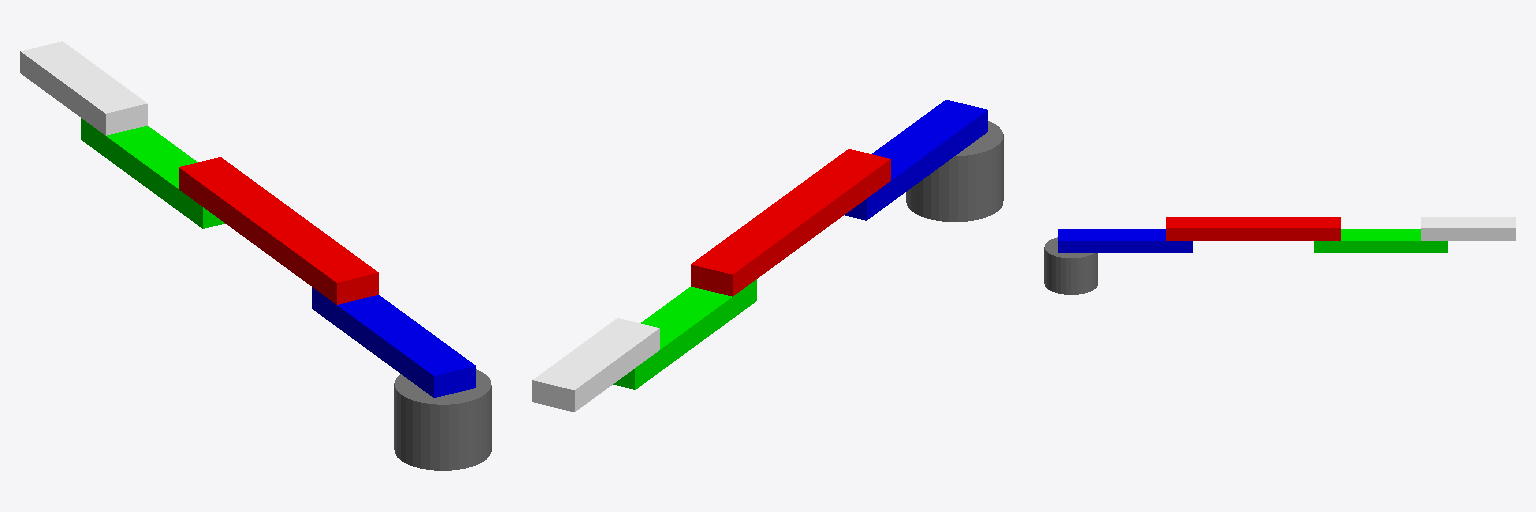
URDF robot description (scara):
<?xml version="1.0"?>
<robot name="scara" xmlns:xacro="http://www.ros.org/wiki/xacro">

  <material name="gray">
    <color rgba="0.5 0.5 0.5 1.0"/>
  </material>
  <material name="blue">
    <color rgba="0 0 1 1.0"/>
  </material>
  <material name="red">
    <color rgba="1 0 0 1.0"/>
  </material>
  <material name="green">
    <color rgba="0 1 0 1.0"/>
  </material>
  <material name="white">
    <color rgba="1 1 1 1.0"/>
  </material>

  <link name="base_link">
    <inertial>
      <mass value="12.72"/>
      <origin xyz="0 0 0" rpy="0 0 0"/>
      <inertia 
        ixx="0.05565" ixy="0.0" ixz="0.0"
        iyy="0.05565" iyz="0.0"
        izz="0.636"/>
    </inertial>
    <visual>
      <origin xyz="0 0 0.075" rpy="0 0 0"/>
      <geometry>
        <cylinder radius="0.1" length="0.15"/>
      </geometry>
      <material name="gray"/>
    </visual>
    <collision>
      <origin xyz="0 0 0.075" rpy="0 0 0"/>
      <geometry>
        <cylinder radius="0.1" length="0.15"/>
      </geometry>
    </collision>
  </link>

  <link name="link1">
    <inertial>
      <mass value="6.75"/>
      <origin xyz="0 0 0" rpy="0 0 0"/>
      <inertia 
        ixx="0.1418" ixy="0.0" ixz="0.0"
        iyy="0.00703" iyz="0.0"
        izz="0.14625"/>
    </inertial>
    <visual>
      <origin xyz="0 0.2 0" rpy="0 0 0"/>
      <geometry>
        <box size="0.1 0.5 0.05"/>
      </geometry>
      <material name="blue"/>
    </visual>
    <collision>
      <origin xyz="0 0.2 0" rpy="0 0 0"/>
      <geometry>
        <box size="0.1 0.5 0.05"/>
      </geometry>
    </collision>
  </link>

  <link name="link2">
    <inertial>
      <mass value="8.78"/>
      <origin xyz="0 0 0" rpy="0 0 0"/>
      <inertia 
        ixx="0.3128" ixy="0.0" ixz="0.0"
        iyy="0.00914" iyz="0.0"
        izz="0.3235"/>
    </inertial>
    <visual>
      <origin xyz="0 0.275 0" rpy="0 0 0"/>
      <geometry>
        <box size="0.1 0.65 0.05"/>
      </geometry>
      <material name="red"/>
    </visual>
    <collision>
      <origin xyz="0 0.275 0" rpy="0 0 0"/>
      <geometry>
        <box size="0.1 0.65 0.05"/>
      </geometry>
    </collision>
  </link>

  <link name="link3">
    <inertial>
      <mass value="6.75"/>
      <origin xyz="0 0 0" rpy="0 0 0"/>
      <inertia 
        ixx="0.1418" ixy="0.0" ixz="0.0"
        iyy="0.00703" iyz="0.0"
        izz="0.14625"/>
    </inertial>
    <visual>
      <origin xyz="0 0.2 0" rpy="0 0 0"/>
      <geometry>
        <box size="0.1 0.5 0.05"/>
      </geometry>
      <material name="green"/>
    </visual>
    <collision>
      <origin xyz="0 0.2 0" rpy="0 0 0"/>
      <geometry>
        <box size="0.1 0.5 0.05"/>
      </geometry>
    </collision>
  </link>

  <link name="link4">
    <inertial>
      <mass value="4.725"/>
      <origin xyz="0 0 0" rpy="0 0 0"/>
      <inertia 
        ixx="0.0502" ixy="0.0" ixz="0.0"
        iyy="0.00492" iyz="0.0"
        izz="0.05118"/>
    </inertial>
    <visual>
      <origin xyz="0 0.125 0" rpy="0 0 0"/>
      <geometry>
        <box size="0.1 0.35 0.05"/>
      </geometry>
      <material name="white"/>
    </visual>
    <collision>
      <origin xyz="0 0.125 0" rpy="0 0 0"/>
      <geometry>
        <box size="0.1 0.35 0.05"/>
      </geometry>
    </collision>
  </link>

  <joint name="scara_joint1" type="revolute">
    <parent link="base_link"/>
    <child link="link1"/>
    <axis xyz="0 0 1"/>
    <origin xyz="0 0 0.175" rpy="0 0 0"/>
    <limit lower="-3.14159" upper="3.14159" effort="10" velocity="1.0"/>
  </joint>

  <joint name="scara_joint2" type="revolute">
    <parent link="link1"/>
    <child link="link2"/>
    <axis xyz="0 0 1"/>
    <origin xyz="0 0.4 0.05" rpy="0 0 0"/>
    <limit lower="-3.14159" upper="3.14159" effort="10" velocity="1.0"/>
  </joint>

  <joint name="scara_joint3" type="revolute">
    <parent link="link2"/>
    <child link="link3"/>
    <axis xyz="0 0 1"/>
    <origin xyz="0 0.55 -0.05" rpy="0 0 0"/>
    <limit lower="-3.14159" upper="3.14159" effort="10" velocity="1.0"/>
  </joint>

  <joint name="scara_joint4" type="revolute">
    <parent link="link3"/>
    <child link="link4"/>
    <axis xyz="0 0 1"/>
    <origin xyz="0 0.4 0.05" rpy="0 0 0"/>
    <limit lower="-3.14159" upper="3.14159" effort="10" velocity="1.0"/>
  </joint>

  <gazebo>
    <plugin name="gazebo_ros2_control" filename="libgazebo_ros2_control.so"/>
  </gazebo>

</robot>

--- What the picture shows (computed from the rendered views, not written in the file) ---
The picture shows the robot from 3 angles, left to right: view 1: azimuth 30°, elevation 25°; view 2: azimuth 150°, elevation 25°; view 3: azimuth 270°, elevation 25°; orthographic projection.
Model scara with 5 links and 4 joints (4 revolute), rooted at base_link, posed all joints at 0.
Links seen in each view (by area): view 1: link2, base_link, link1, link4, link3; view 2: link2, link4, link1, base_link, link3; view 3: link2, link1, link3, base_link, link4.
Boxes of the visible links, x1,y1,x2,y2 form: link2: [179, 157, 378, 304]; base_link: [394, 369, 491, 470]; link1: [312, 287, 475, 397]; link4: [20, 41, 147, 135]; link3: [81, 118, 224, 228]; link2: [691, 149, 890, 296]; link4: [532, 318, 659, 411]; link1: [845, 100, 987, 220]; base_link: [906, 121, 1003, 221]; link3: [613, 279, 756, 389]; link2: [1166, 217, 1340, 240]; link1: [1058, 229, 1192, 252]; link3: [1314, 229, 1447, 252]; base_link: [1044, 237, 1097, 294]; link4: [1421, 217, 1515, 240].
Bounding box of the posed robot: 0.2 × 1.75 × 0.25 m (x, y, z).
Geometry: primitives only (box / cylinder / sphere), no mesh files.